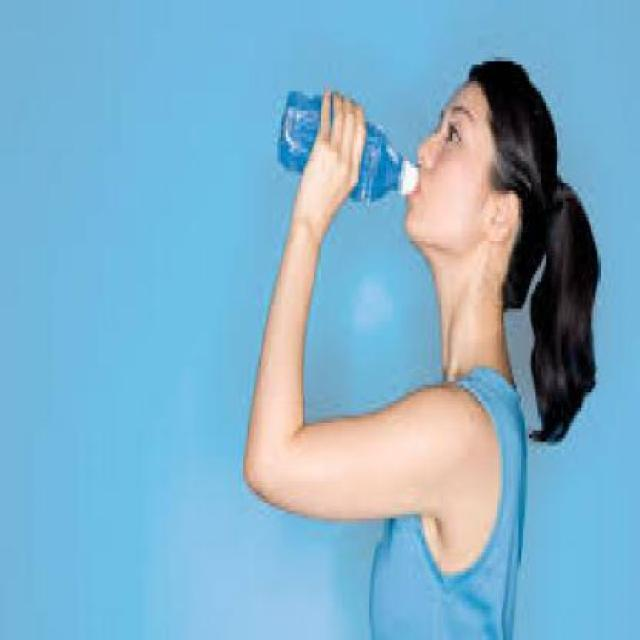Drinking: (261, 72, 427, 240)
